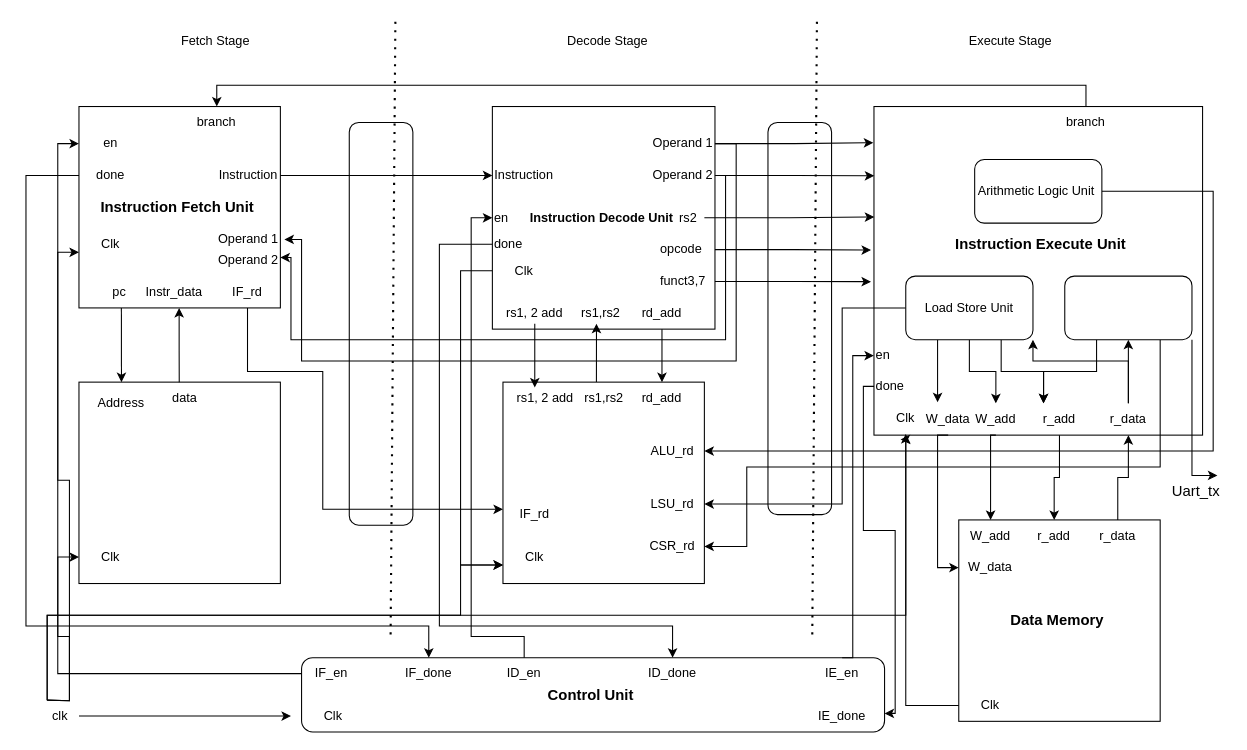
This 1247x750 diagram has some shape labels left out. Here are the shapes that lost their labels. From the top down, the box of each, then its label:
(1064, 275, 1192, 340): Control Status Register Unit
(78, 381, 280, 584): Instruction Memory
(502, 381, 704, 584): Register File
